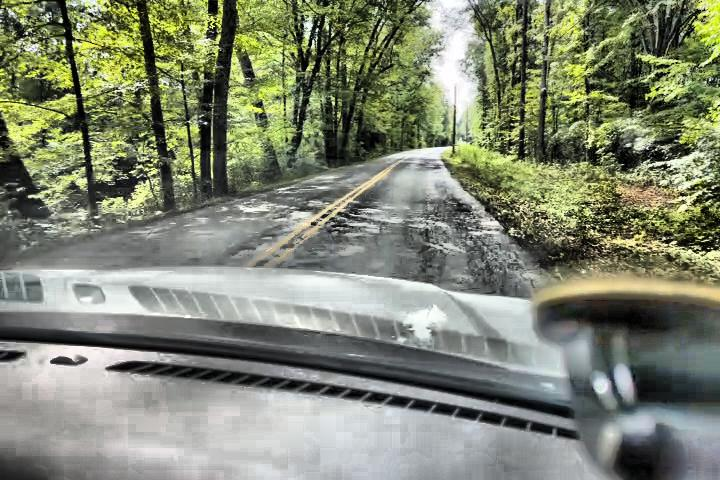pothole: (451, 198, 476, 215)
